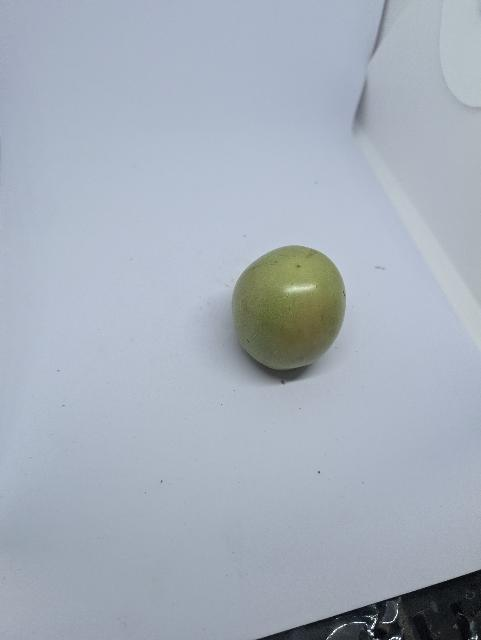green: (231, 244, 349, 372)
